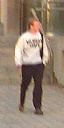person: (8, 14, 59, 121)
